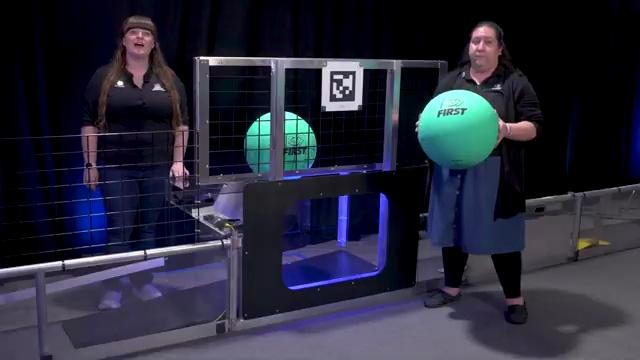ALGAE: (416, 88, 499, 169), (244, 111, 316, 177)
